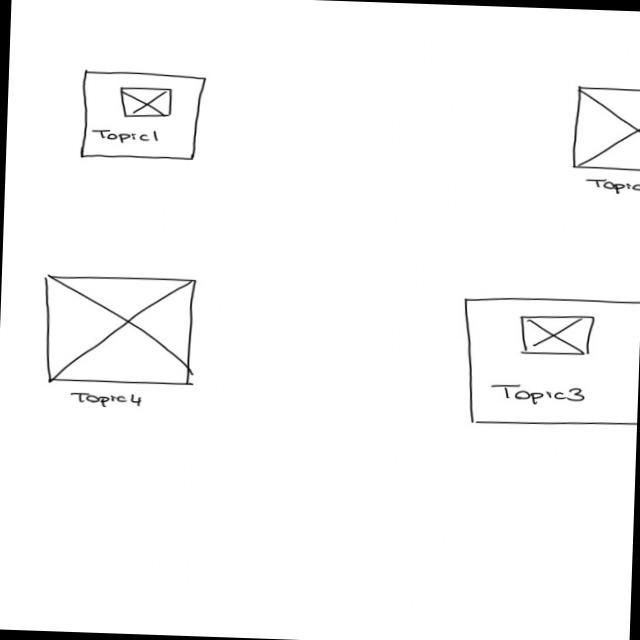container: (457, 293, 640, 429), (77, 69, 207, 163)
image: (41, 273, 198, 389), (571, 85, 640, 173), (518, 313, 599, 358), (118, 85, 176, 120)
label: (489, 382, 587, 410), (69, 392, 145, 411), (91, 128, 163, 146), (582, 176, 640, 198)
